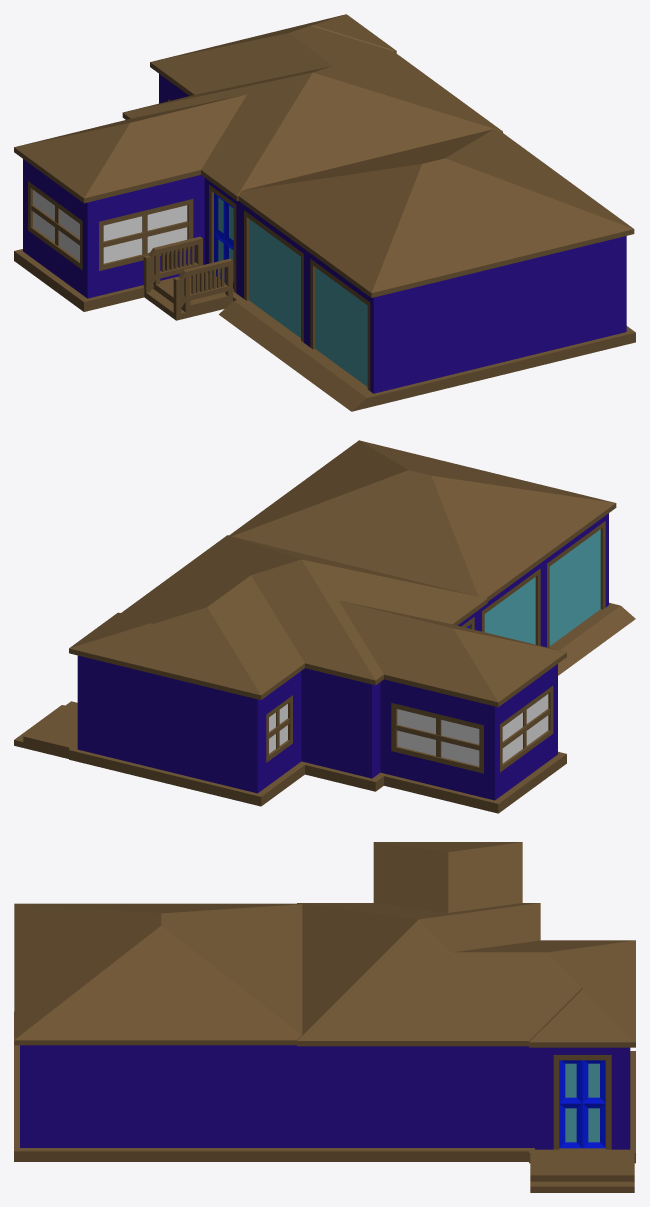
The model's file is House #14.fbx.
3 renders of one model, top to bottom at view 1: azimuth 30°, elevation 25°; view 2: azimuth 150°, elevation 25°; view 3: azimuth 270°, elevation 25°, orthographic. The views are drawn at different scales.
Visible parts, largest first — view 1: building_001; view 2: building_001; view 3: building_001.
Boxes of the visible parts, box(x1,y1,x2,y2) form: building_001: box(14, 14, 635, 411); building_001: box(14, 440, 635, 813); building_001: box(14, 842, 635, 1192).
Size of the model in its own units: 937 by 330 by 1072.
